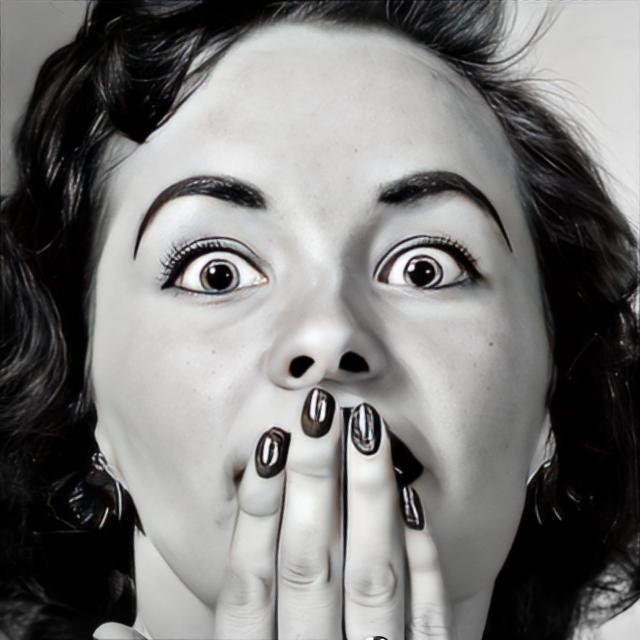fear: (88, 15, 555, 637)
